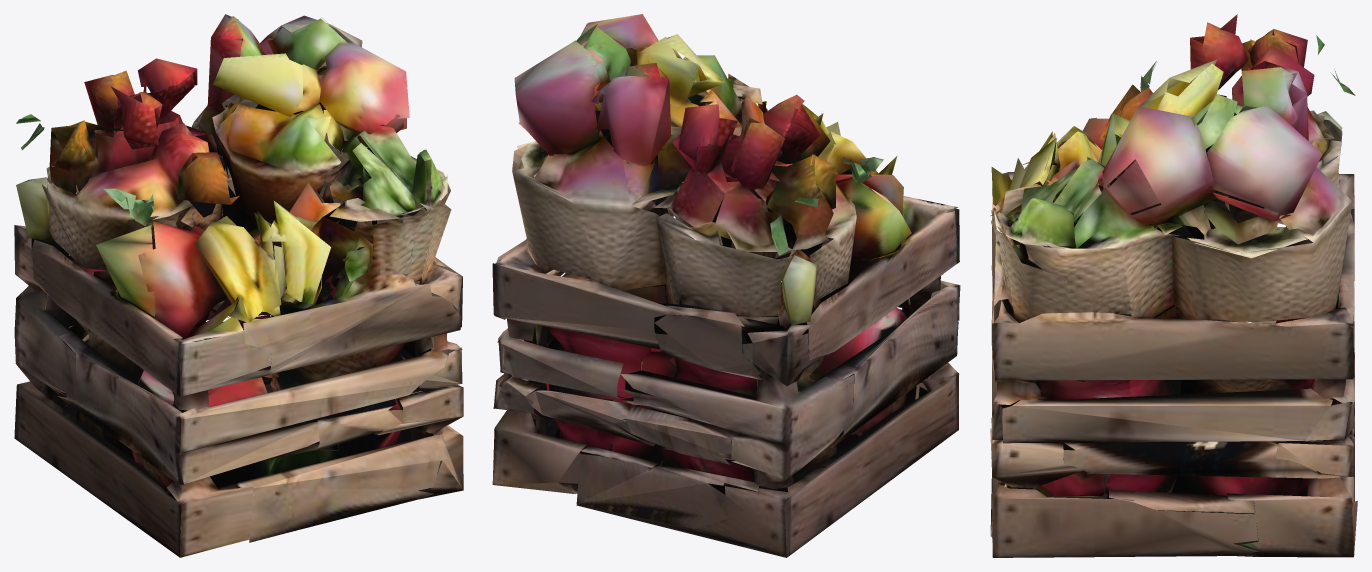
File: crate-stack.glb
The picture shows the model from 3 angles, left to right: view 1: azimuth 30°, elevation 25°; view 2: azimuth 150°, elevation 25°; view 3: azimuth 270°, elevation 25°; orthographic projection. The views are drawn at different scales.
Parts seen in each view (by area): view 1: model; view 2: model; view 3: model.
Part boxes in pixels (x1,y1,x2,y2): model: [14, 14, 463, 557]; model: [492, 14, 960, 557]; model: [990, 14, 1357, 557].
Size of the model in its own units: 0.8093 by 0.9838 by 0.7392.
1 material, 1 textured.
